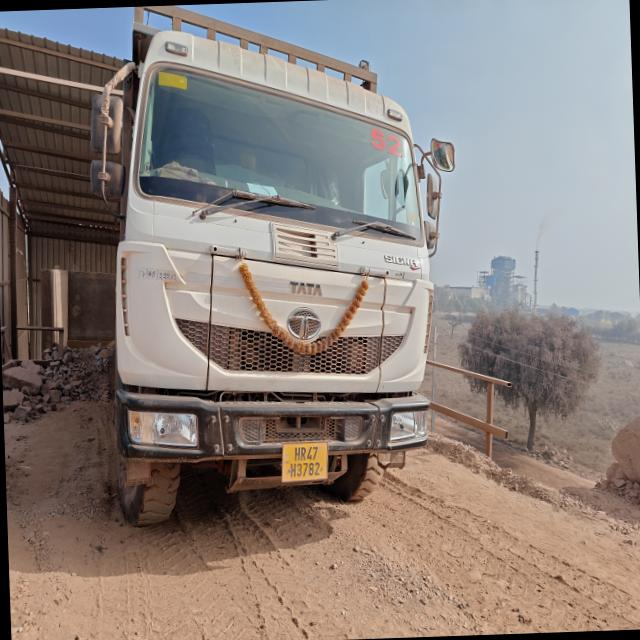license_plate: (282, 441, 328, 482)
